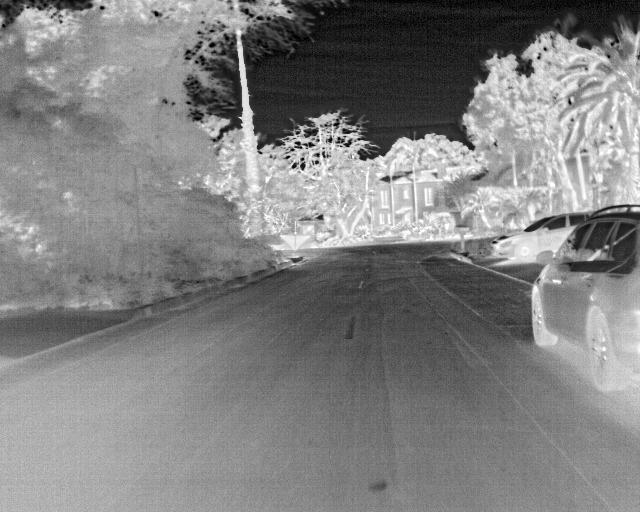car: (530, 202, 639, 394), (489, 211, 594, 265)
